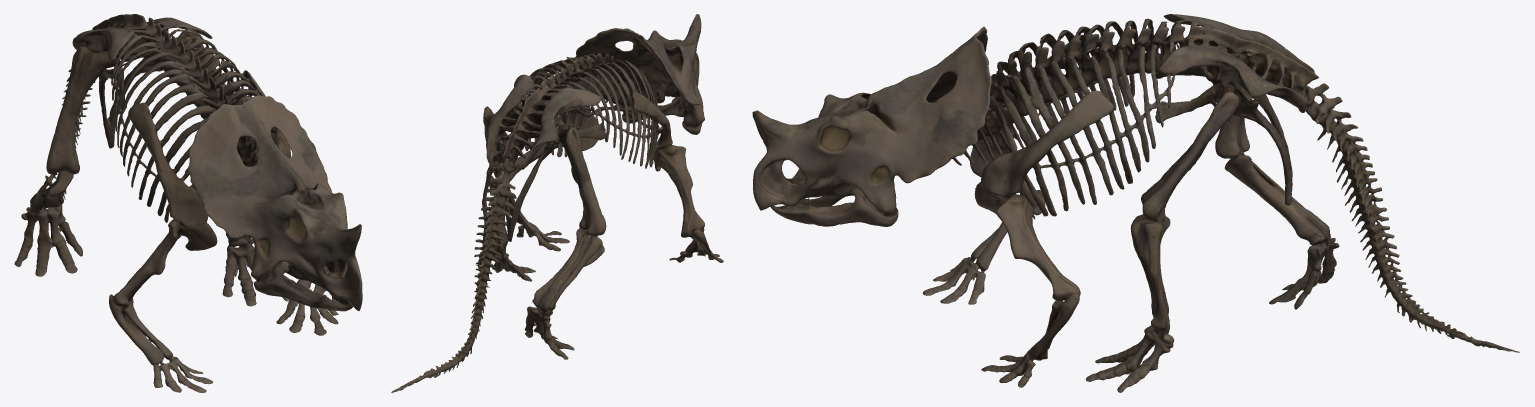
3 renders of one model, left to right at view 1: azimuth 30°, elevation 25°; view 2: azimuth 150°, elevation 25°; view 3: azimuth 270°, elevation 25°, orthographic. The views are drawn at different scales.
Visible parts, largest first — view 1: orientacao; view 2: orientacao; view 3: orientacao.
Boxes of the visible parts, bbox=[...] form: orientacao: bbox=[14, 14, 362, 392]; orientacao: bbox=[391, 14, 723, 392]; orientacao: bbox=[752, 14, 1519, 392].
Bounding box in the file's own units: 21479 × 23866 × 54086.
1 material, 1 textured.
